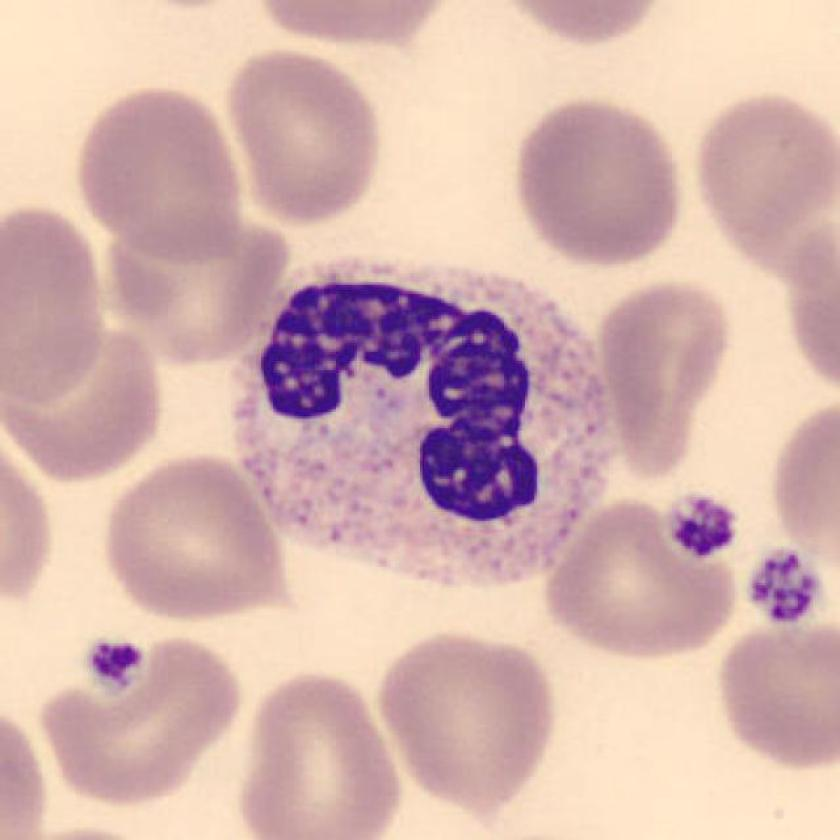neutrophil: (235, 260, 609, 588)
